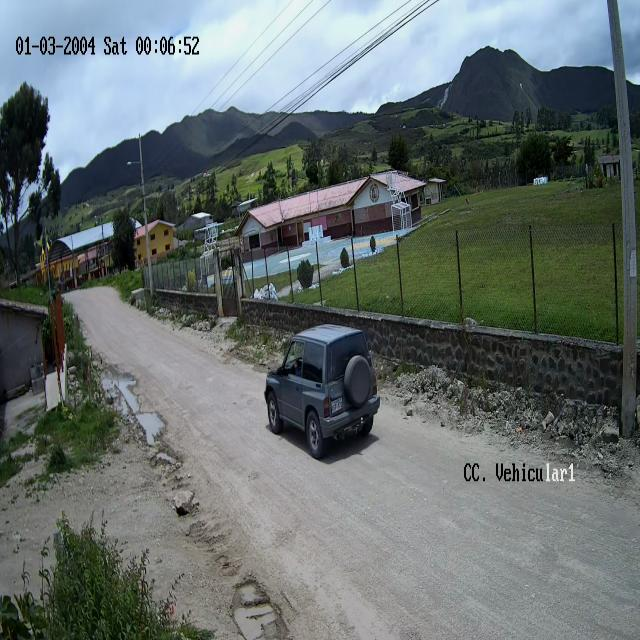SUV: (264, 325, 381, 459)
